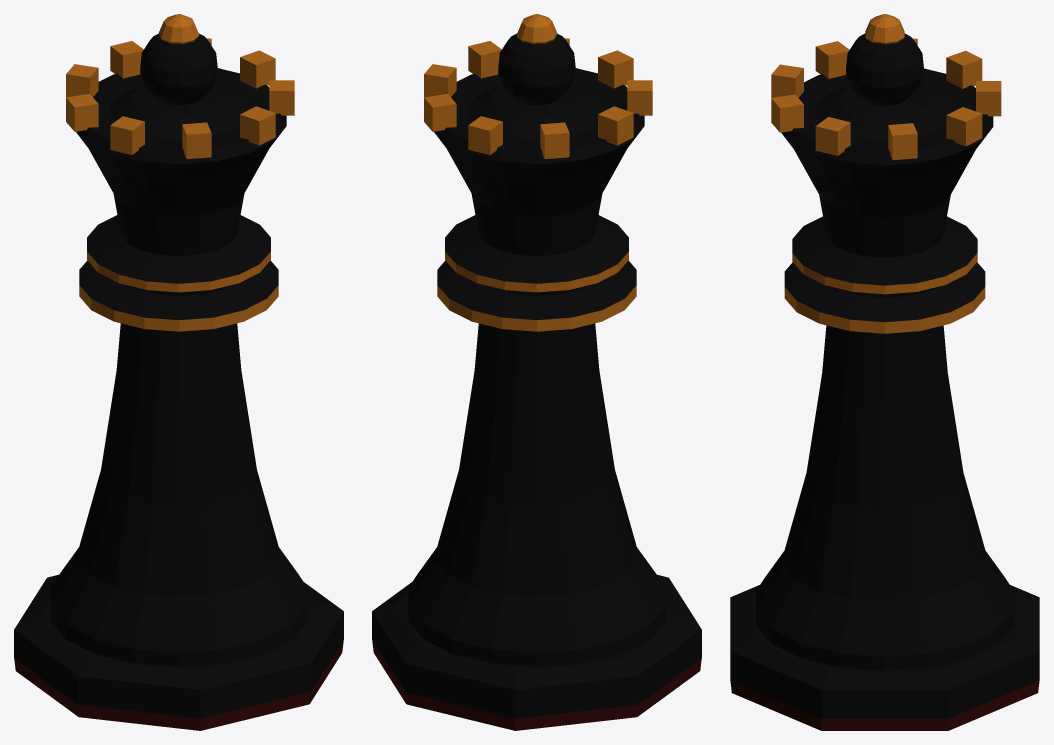
File: cozy_chess_black_queen.obj
3 renders of one model, left to right at view 1: azimuth 30°, elevation 25°; view 2: azimuth 150°, elevation 25°; view 3: azimuth 270°, elevation 25°, orthographic.
Visible parts, largest first — view 1: Chess_Black_Queen_Mesh; view 2: Chess_Black_Queen_Mesh; view 3: Chess_Black_Queen_Mesh.
Boxes of the visible parts, <box> form: Chess_Black_Queen_Mesh: <box>14,14,343,730</box>; Chess_Black_Queen_Mesh: <box>372,14,701,730</box>; Chess_Black_Queen_Mesh: <box>730,14,1039,730</box>.
Size of the model in its own units: 0.0407 by 0.0946 by 0.0407.
